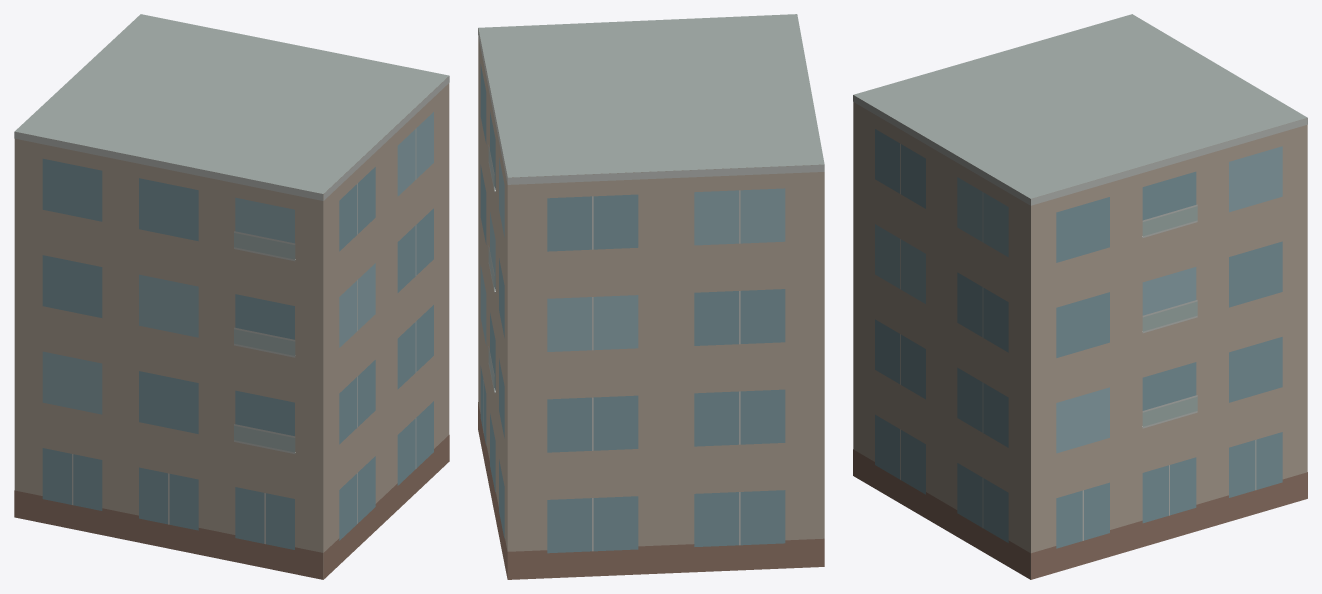
Rendered from survey-upis-32826137.glb.
3 renders of one model, left to right at view 1: azimuth 30°, elevation 25°; view 2: azimuth 150°, elevation 25°; view 3: azimuth 270°, elevation 25°, orthographic. The views are drawn at different scales.
Parts seen in each view (by area): view 1: survey-upis-32826137.tmp; view 2: survey-upis-32826137.tmp; view 3: survey-upis-32826137.tmp.
Boxes of the visible parts, left/top/right/bottom form: survey-upis-32826137.tmp: left=14, top=14, right=449, bottom=579; survey-upis-32826137.tmp: left=478, top=14, right=824, bottom=579; survey-upis-32826137.tmp: left=853, top=14, right=1307, bottom=579.
Bounding box in the file's own units: 13.95 × 13.4 × 14.5.
